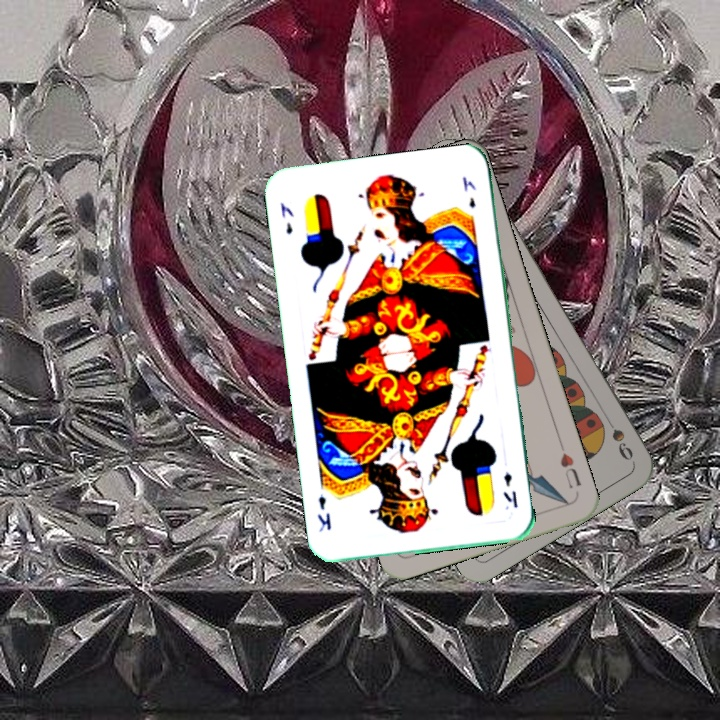EK: (499, 467, 521, 510), (277, 198, 296, 237)
HU: (556, 448, 584, 491)
S9: (599, 410, 636, 464)
